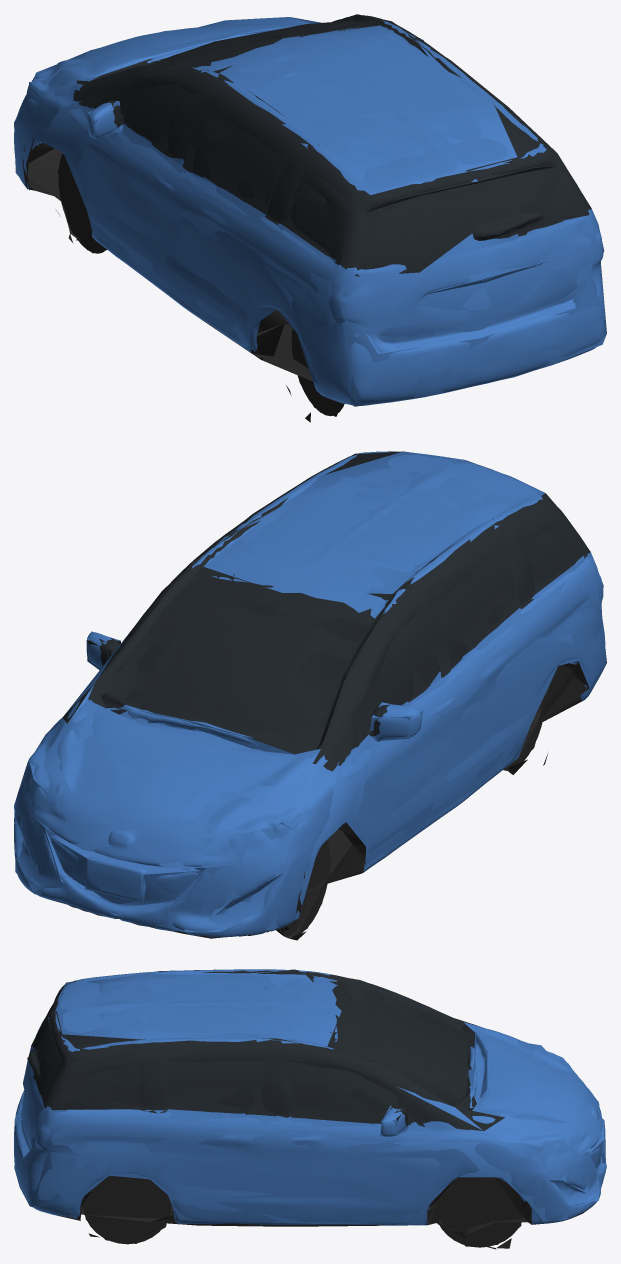
The model's file is mazda-5.glb.
3 views of the same model, one above another, from view 1: azimuth 30°, elevation 25°; view 2: azimuth 150°, elevation 25°; view 3: azimuth 270°, elevation 25° (orthographic). The views are drawn at different scales.
Parts seen in each view (by area): view 1: body, far; view 2: body, far; view 3: body, far.
Boxes of the visible parts, box(x1,y1,x2,y2) form: body: box(14, 15, 604, 421); far: box(14, 14, 606, 422); body: box(14, 451, 605, 940); far: box(14, 451, 606, 936); body: box(14, 969, 605, 1249); far: box(14, 969, 606, 1246).
Size of the model in its own units: 2.34 by 1.76 by 4.61.
